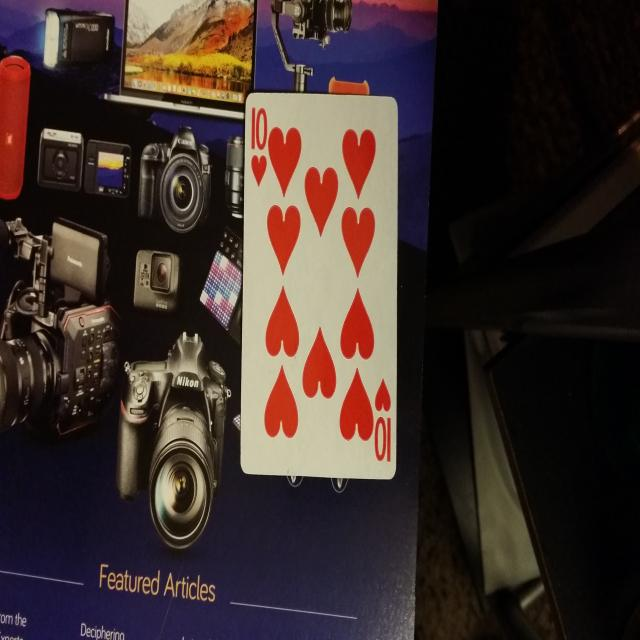10h: (367, 372, 398, 464), (245, 96, 274, 194)
